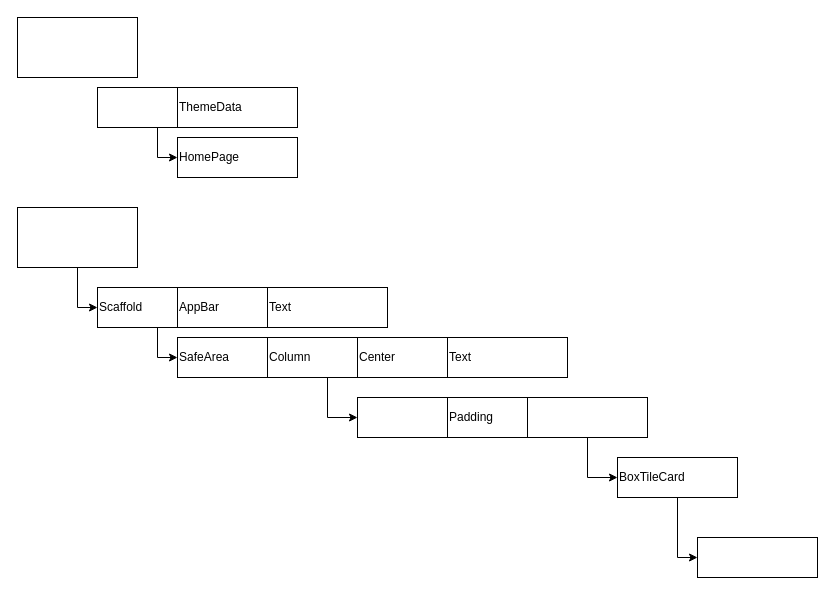
Some shapes in this 835 by 595 pixel diagram are drawn without their labels. Each missing label, with the centre of its shape:
BoxTile: the point at 757,557
Expanded: the point at 417,417
home_page.dart: the point at 77,237
ListView.builder: the point at 587,417
main.dart: the point at 77,47
MaterialApp: the point at 157,107
